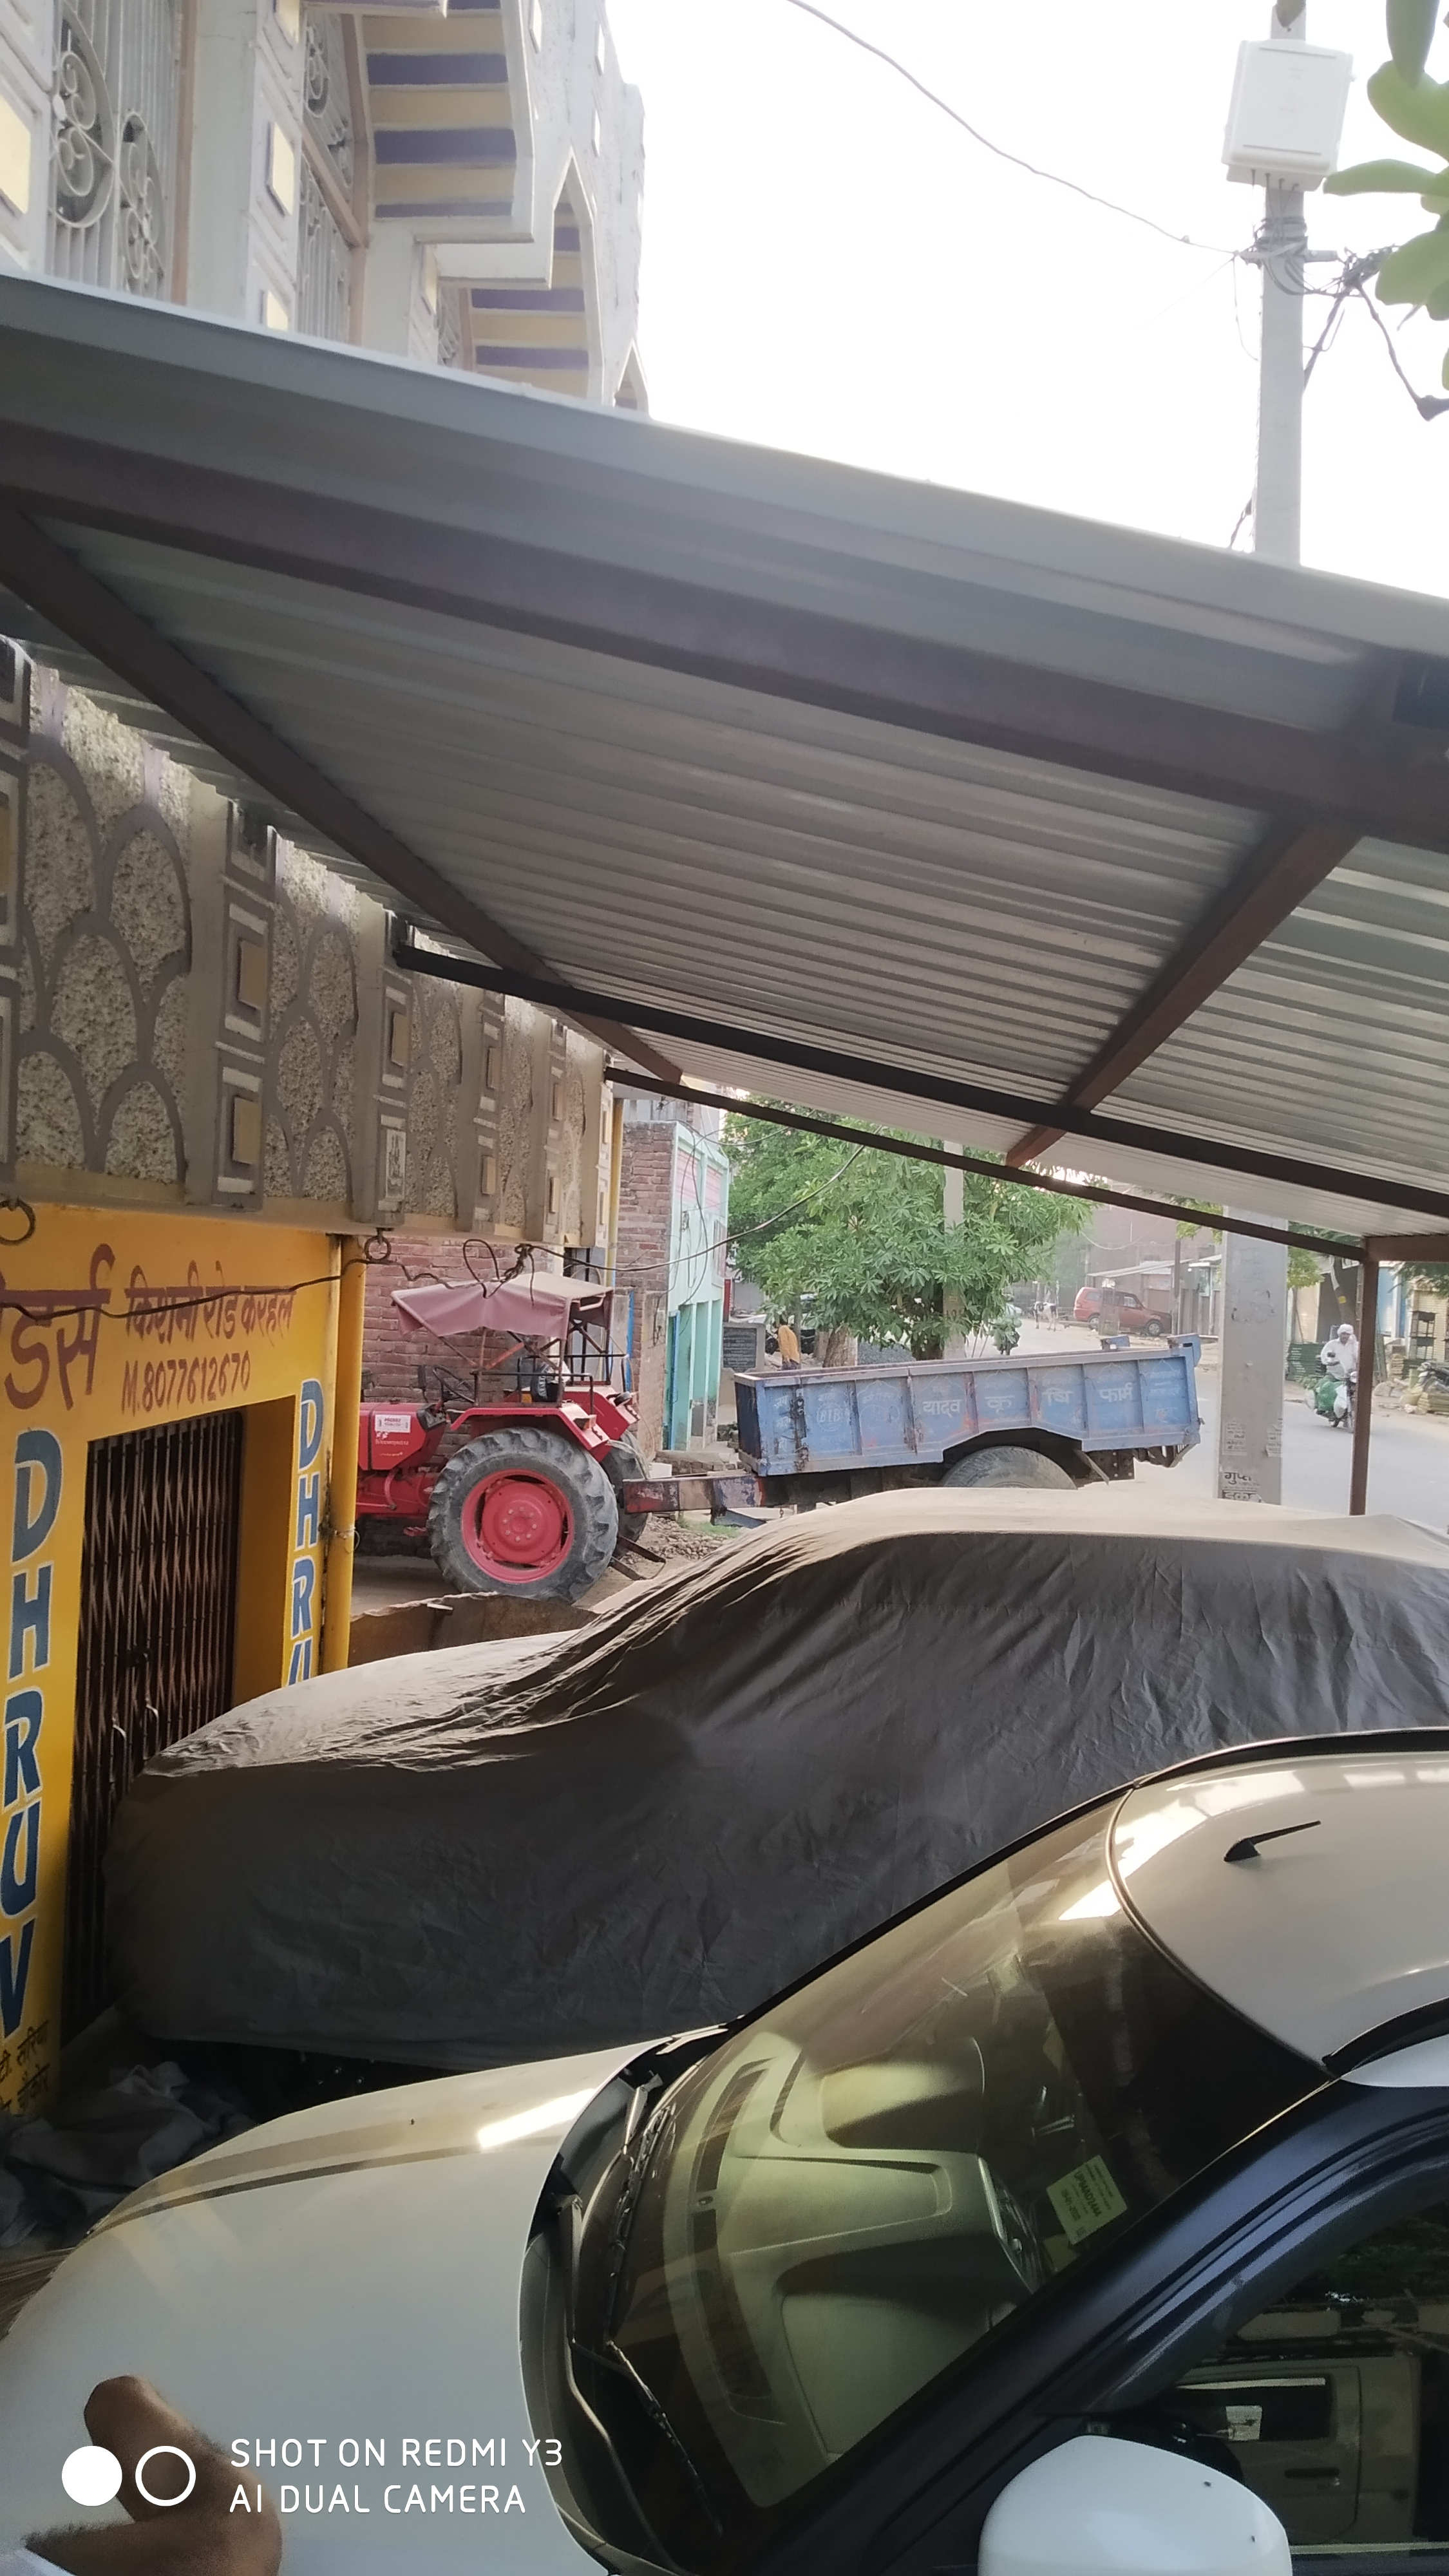tractor: (356, 1267, 1207, 1608)
